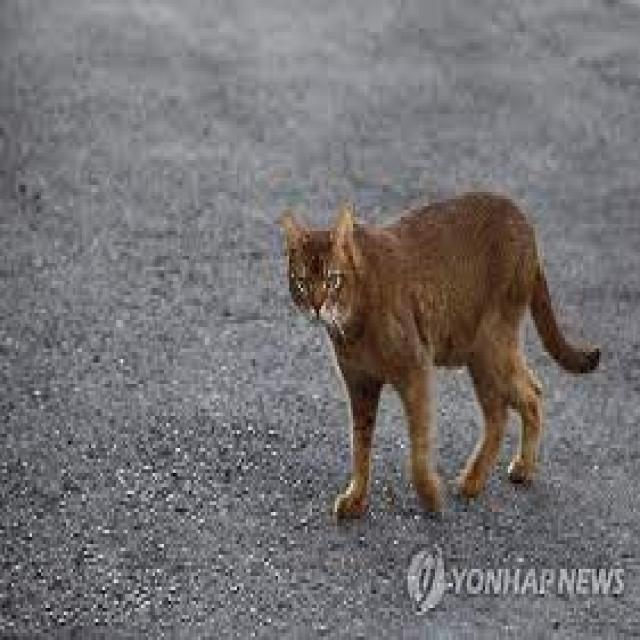cat: (210, 78, 611, 560)
